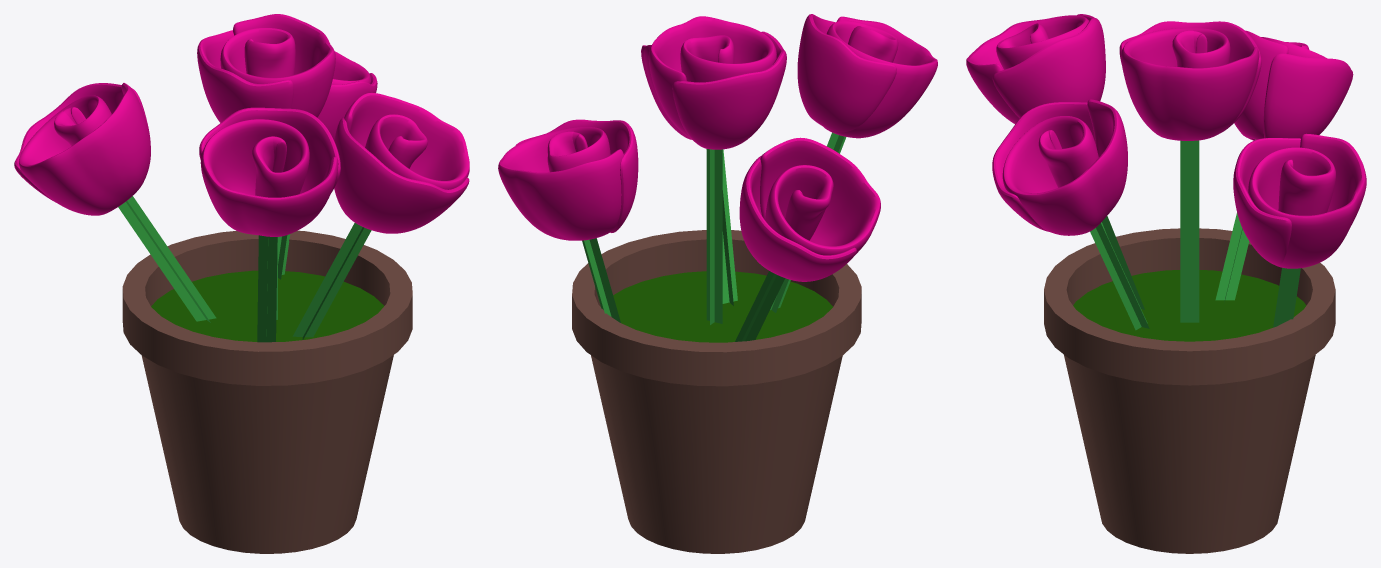
Rendered from Rose.fbx.
The picture shows the model from 3 angles, left to right: view 1: azimuth 30°, elevation 25°; view 2: azimuth 150°, elevation 25°; view 3: azimuth 270°, elevation 25°; orthographic projection.
Visible parts, largest first — view 1: Circle, BézierCurve.008, BézierCurve.009, BézierCurve.005, BézierCurve.001, BézierCurve.003; view 2: Circle, BézierCurve.001, BézierCurve.005, BézierCurve.003, BézierCurve.009, BézierCurve.008; view 3: Circle, BézierCurve.001, BézierCurve.008, BézierCurve.003, BézierCurve.009, BézierCurve.005.
Part boxes in pixels (<box>): Circle: <box>122,230,412,553</box>; BézierCurve.008: <box>292,93,469,339</box>; BézierCurve.009: <box>199,107,340,342</box>; BézierCurve.005: <box>14,83,216,322</box>; BézierCurve.001: <box>197,14,335,319</box>; BézierCurve.003: <box>278,51,377,279</box>; Circle: <box>572,230,861,553</box>; BézierCurve.001: <box>648,16,786,324</box>; BézierCurve.005: <box>735,137,880,341</box>; BézierCurve.003: <box>498,119,638,322</box>; BézierCurve.009: <box>770,14,937,312</box>; BézierCurve.008: <box>641,45,737,305</box>; Circle: <box>1044,228,1335,553</box>; BézierCurve.001: <box>1119,21,1261,322</box>; BézierCurve.008: <box>992,99,1149,330</box>; BézierCurve.003: <box>1233,133,1366,327</box>; BézierCurve.009: <box>966,14,1144,309</box>; BézierCurve.005: <box>1215,30,1353,302</box>.
Size of the model in its own units: 79.21 by 103 by 78.14.
